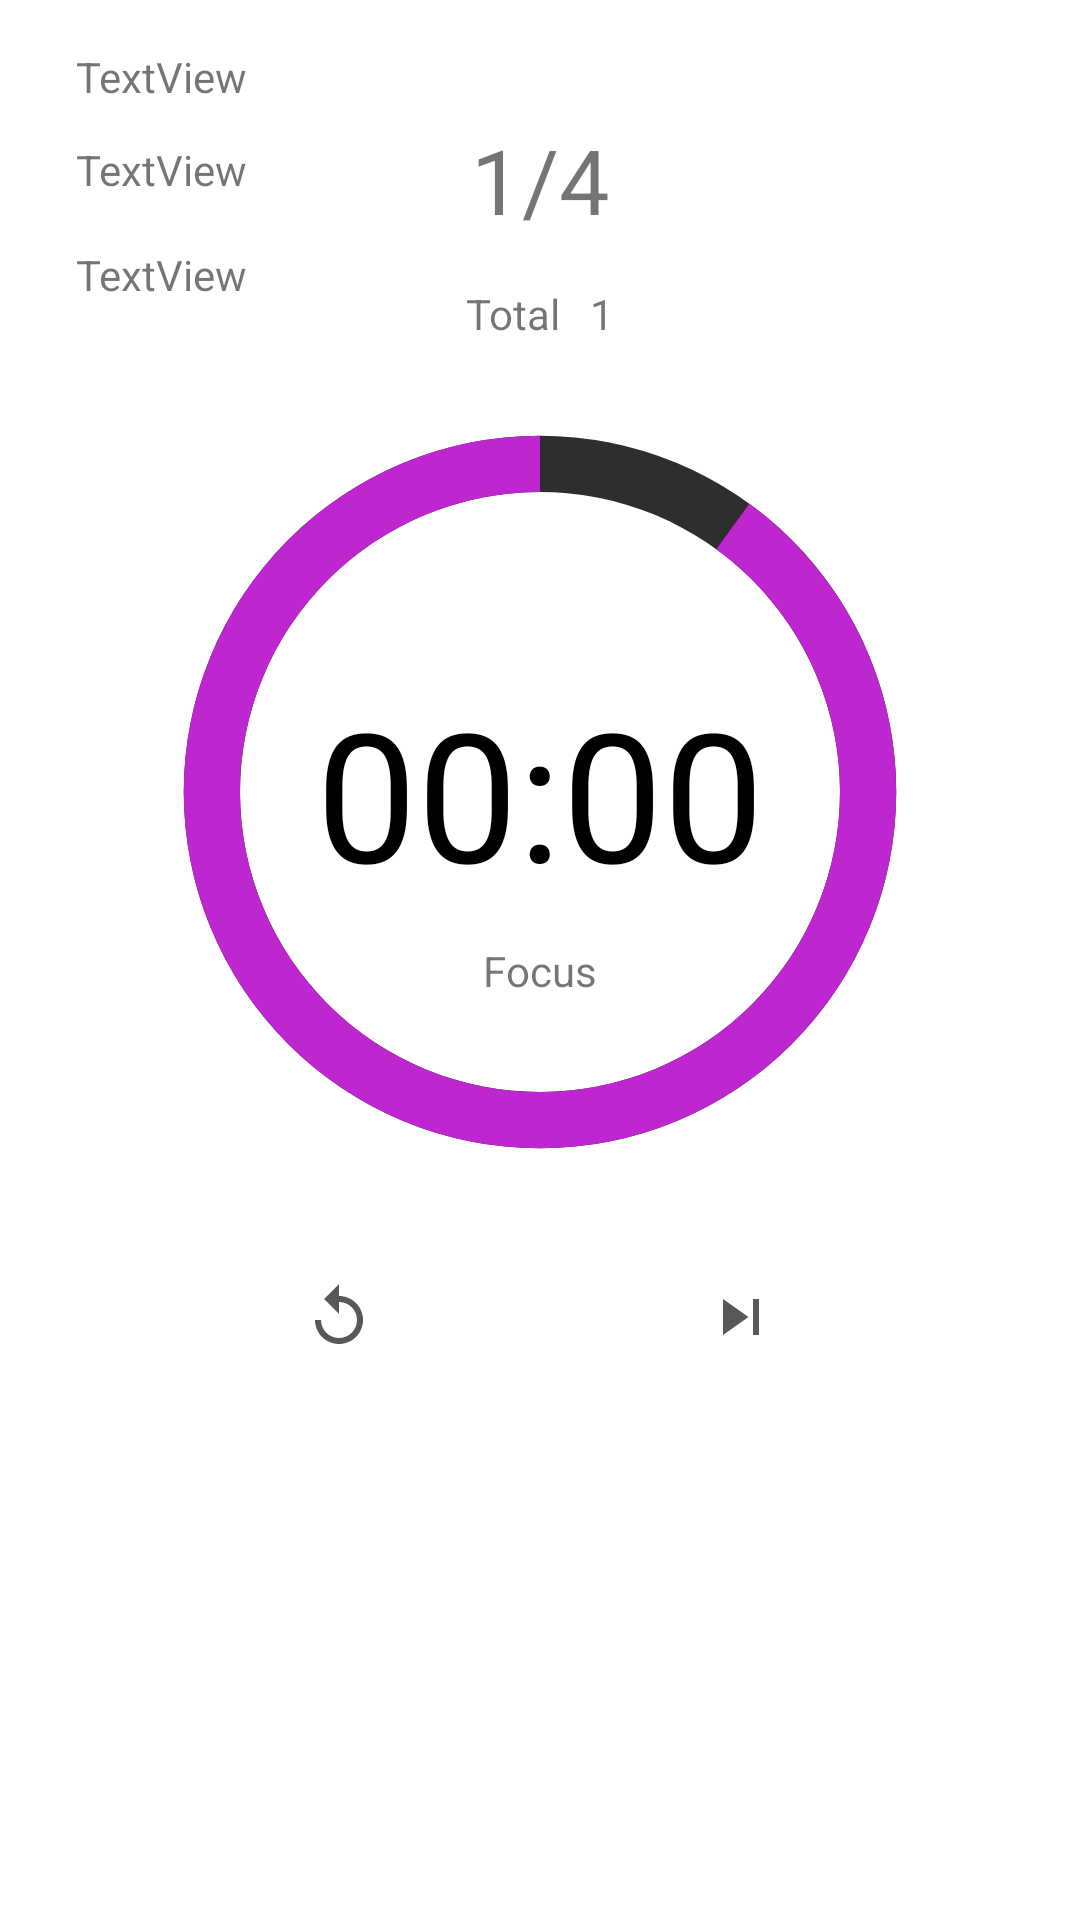

Named icons in this screenshot (1080w x 1920h) and their centers, [x,y]:
Next: [741,1317]
Replay: [339,1314]
